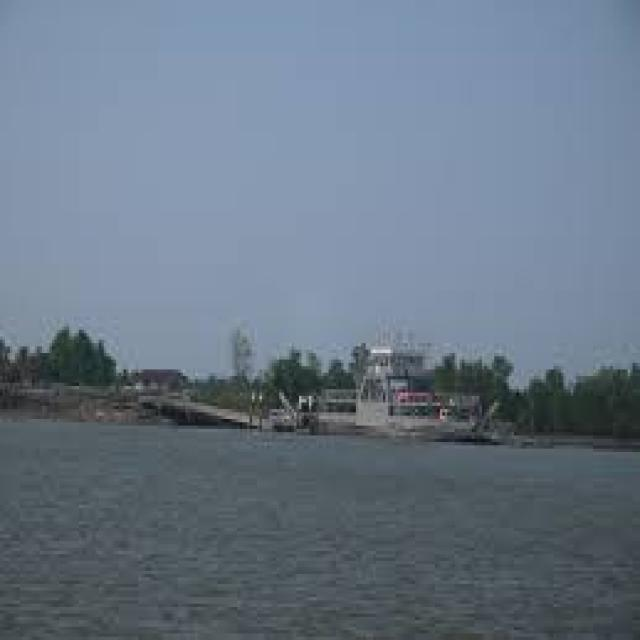houseboat: (320, 342, 494, 435)
